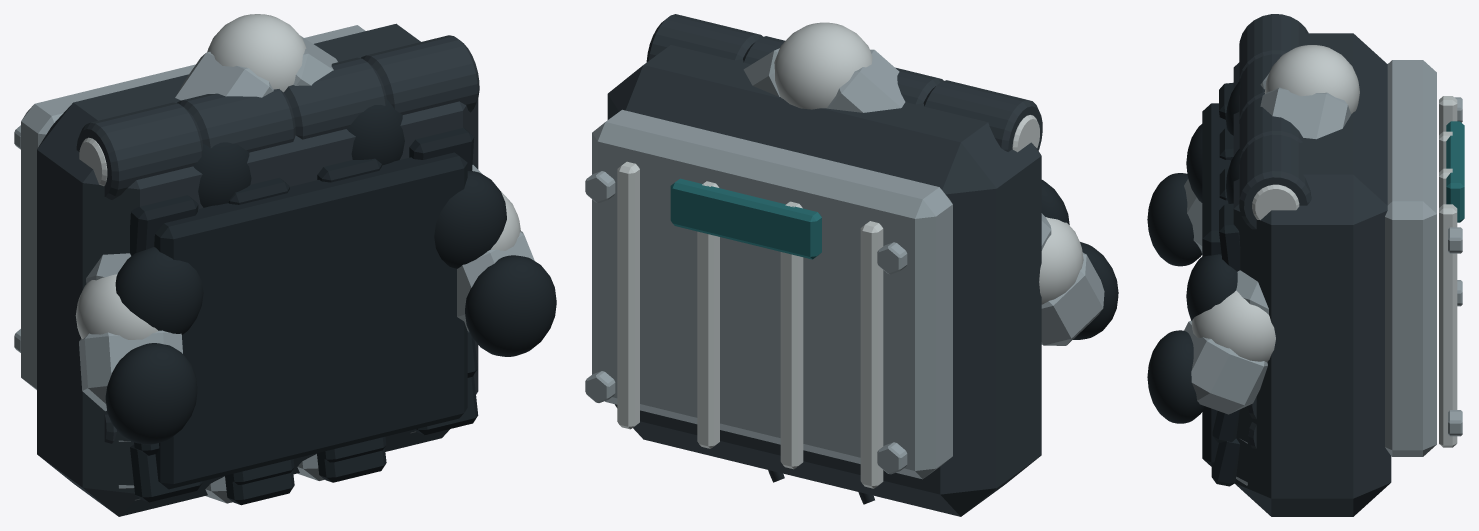
File: hands.glb
The picture shows the model from 3 angles, left to right: view 1: azimuth 30°, elevation 25°; view 2: azimuth 150°, elevation 25°; view 3: azimuth 270°, elevation 25°; orthographic projection. The views are drawn at different scales.
Visible parts, largest first — view 1: hands__hand_L, hands__hand_R, hands__fingers_L, hands__thumb_R, hands__fingers_R, hands__thumb_L; view 2: hands__hand_L, hands__hand_R, hands__thumb_R, hands__fingers_L, hands__fingers_R, hands__thumb_L; view 3: hands__hand_L, hands__hand_R, hands__thumb_L, hands__fingers_L, hands__fingers_R, hands__thumb_R.
Boxes of the visible parts, x1,y1,x2,y2 form: hands__hand_L: (14, 24, 478, 516); hands__hand_R: (14, 24, 478, 515); hands__fingers_L: (76, 42, 479, 484); hands__thumb_R: (75, 15, 296, 444); hands__fingers_R: (76, 35, 478, 505); hands__thumb_L: (239, 14, 556, 356); hands__hand_L: (585, 45, 1041, 514); hands__hand_R: (585, 48, 1041, 516); hands__thumb_R: (789, 23, 1118, 345); hands__fingers_L: (687, 23, 1042, 482); hands__fingers_R: (646, 14, 1039, 504); hands__thumb_L: (743, 22, 843, 108); hands__hand_L: (1202, 33, 1464, 516); hands__hand_R: (1202, 33, 1464, 516); hands__thumb_L: (1147, 47, 1359, 423); hands__fingers_L: (1211, 14, 1311, 486); hands__fingers_R: (1212, 21, 1311, 443); hands__thumb_R: (1147, 45, 1357, 266).
Size of the model in its own units: 0.1282 by 0.127 by 0.0865.
